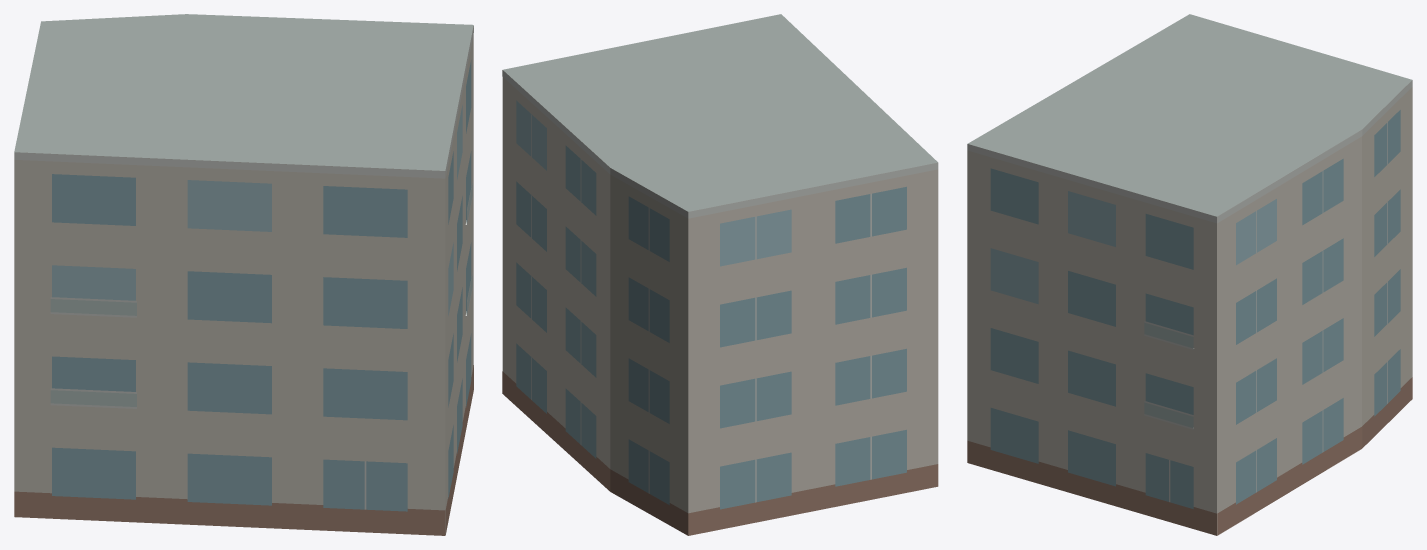
The model's file is survey-upis-32721440.glb.
The picture shows the model from 3 angles, left to right: view 1: azimuth 30°, elevation 25°; view 2: azimuth 150°, elevation 25°; view 3: azimuth 270°, elevation 25°; orthographic projection. The views are drawn at different scales.
Parts seen in each view (by area): view 1: survey-upis-32721440.tmp; view 2: survey-upis-32721440.tmp; view 3: survey-upis-32721440.tmp.
Boxes of the visible parts, bbox=[...] form: survey-upis-32721440.tmp: bbox=[14, 14, 473, 535]; survey-upis-32721440.tmp: bbox=[502, 14, 938, 535]; survey-upis-32721440.tmp: bbox=[967, 14, 1412, 535].
Bounding box in the file's own units: 15.96 × 11.7 × 14.8.
